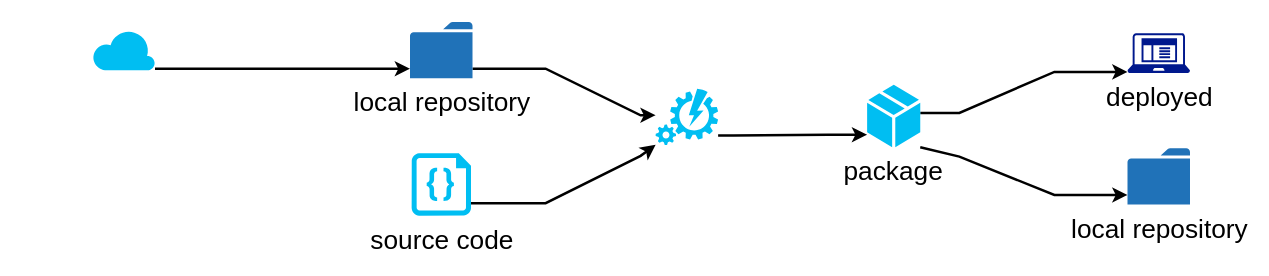
This 1269x276 diagram has some shape labels left out. The shapes that lost their labels are listed below. From the top down, each one's centre as x and y in pixels, then its label:
At point 123,49: "remote repository".
At point 686,116: "build".
